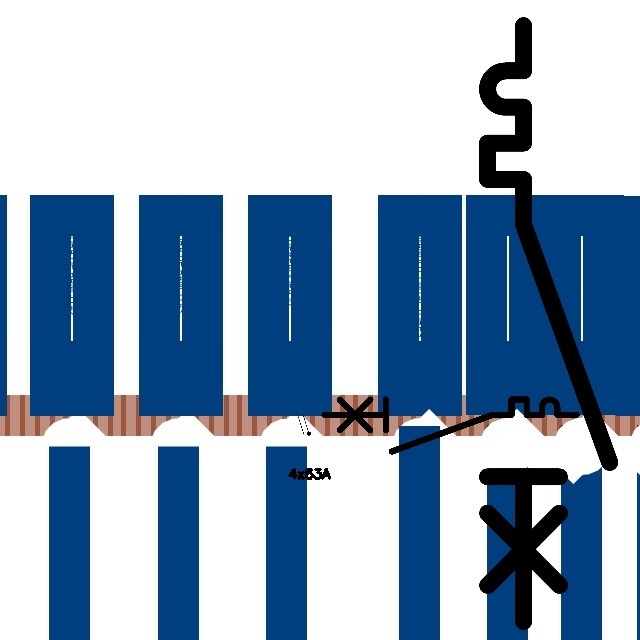interruptor_termomagnetico: (472, 10, 625, 637), (318, 393, 583, 458)
